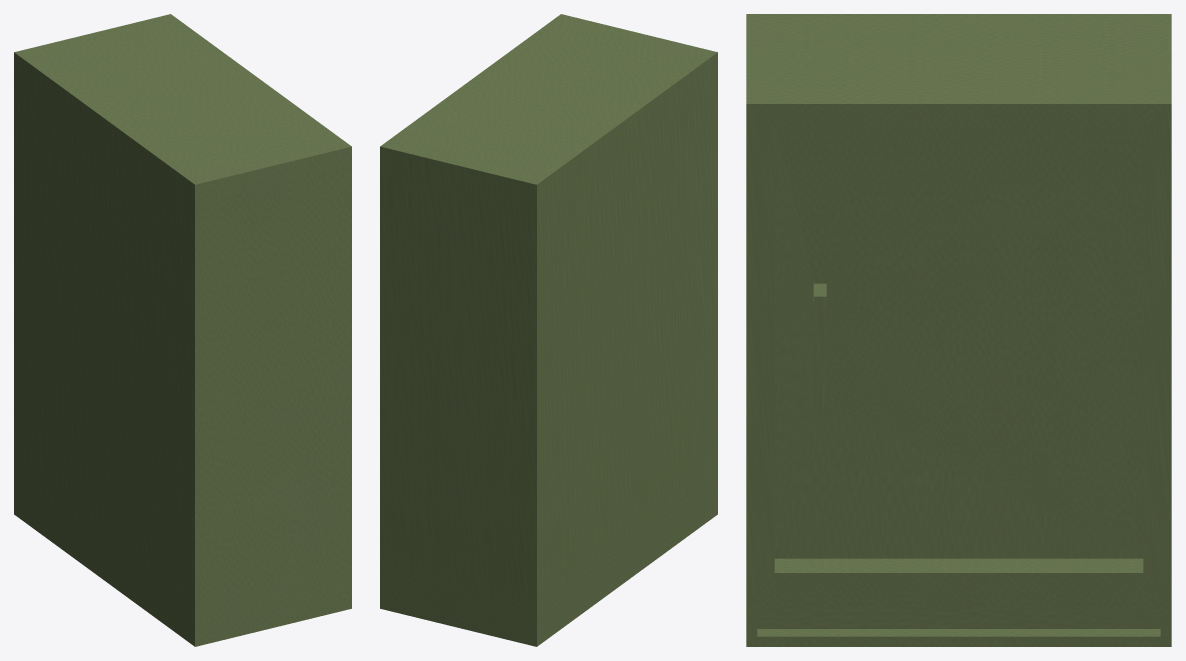
The model's file is cabinet.glb.
3 views of the same model, side by side, from view 1: azimuth 30°, elevation 25°; view 2: azimuth 150°, elevation 25°; view 3: azimuth 270°, elevation 25° (orthographic). The views are drawn at different scales.
Parts seen in each view (by area): view 1: Cube; view 2: Cube; view 3: Cube.
Part boxes in pixels (x1=…): Cube: x1=14, y1=14, x2=351, y2=646; Cube: x1=380, y1=14, x2=717, y2=646; Cube: x1=746, y1=14, x2=1171, y2=646.
Size of the model in its own units: 1 by 2.82 by 2.
Materials: 1 (1 with a texture image).
